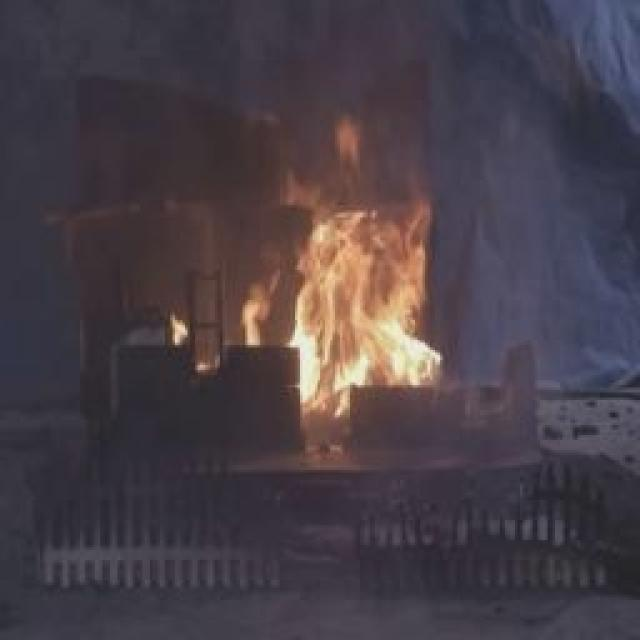fire: (242, 114, 460, 416)
